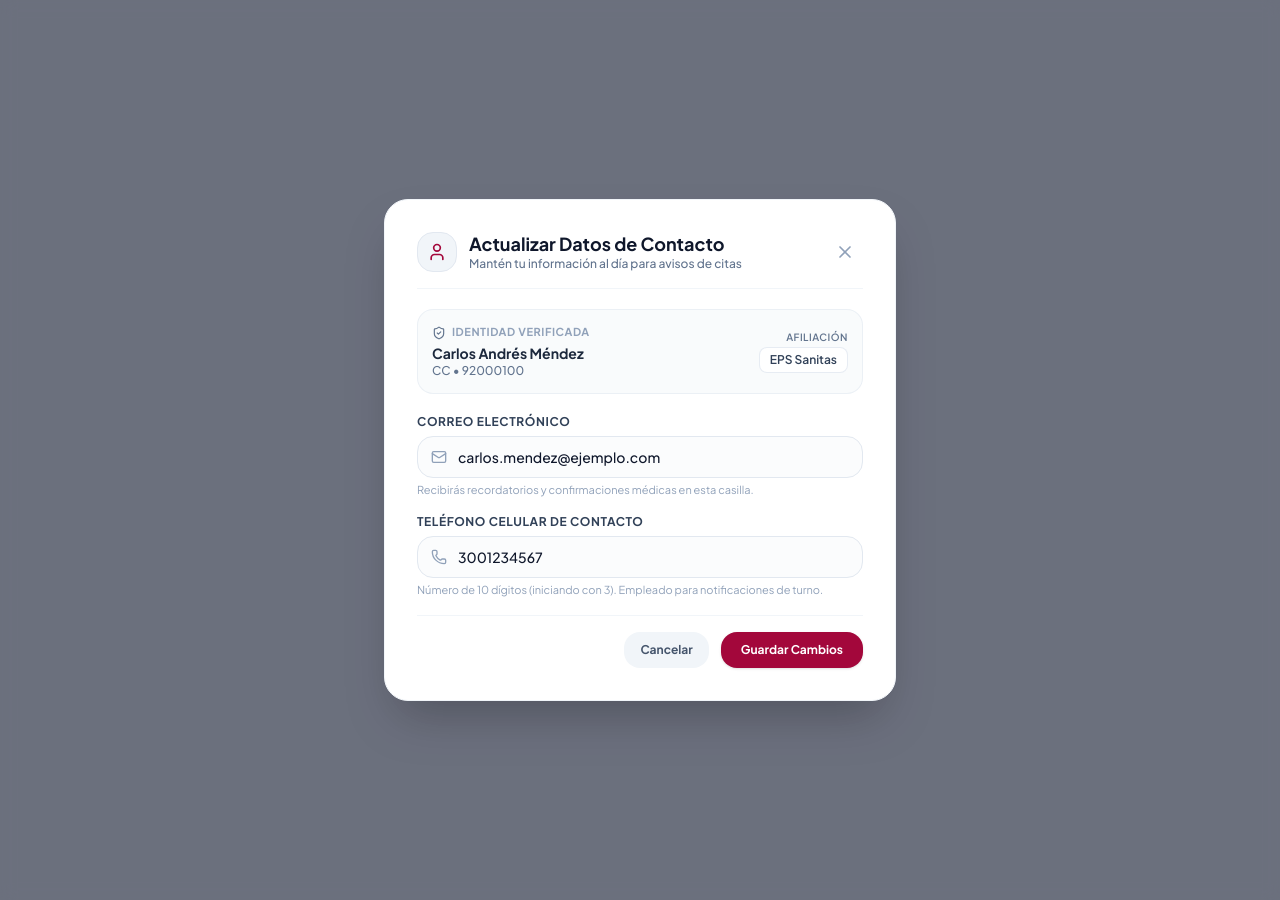
Test case: EditProfileModal - Edición de Datos de Contacto (RF-04) › muestra un mensaje de error si el correo ya pertenece a otro usuario registrado
Click the button "Guardar Cambios".
click(792, 650)  # box [721, 632, 863, 668]
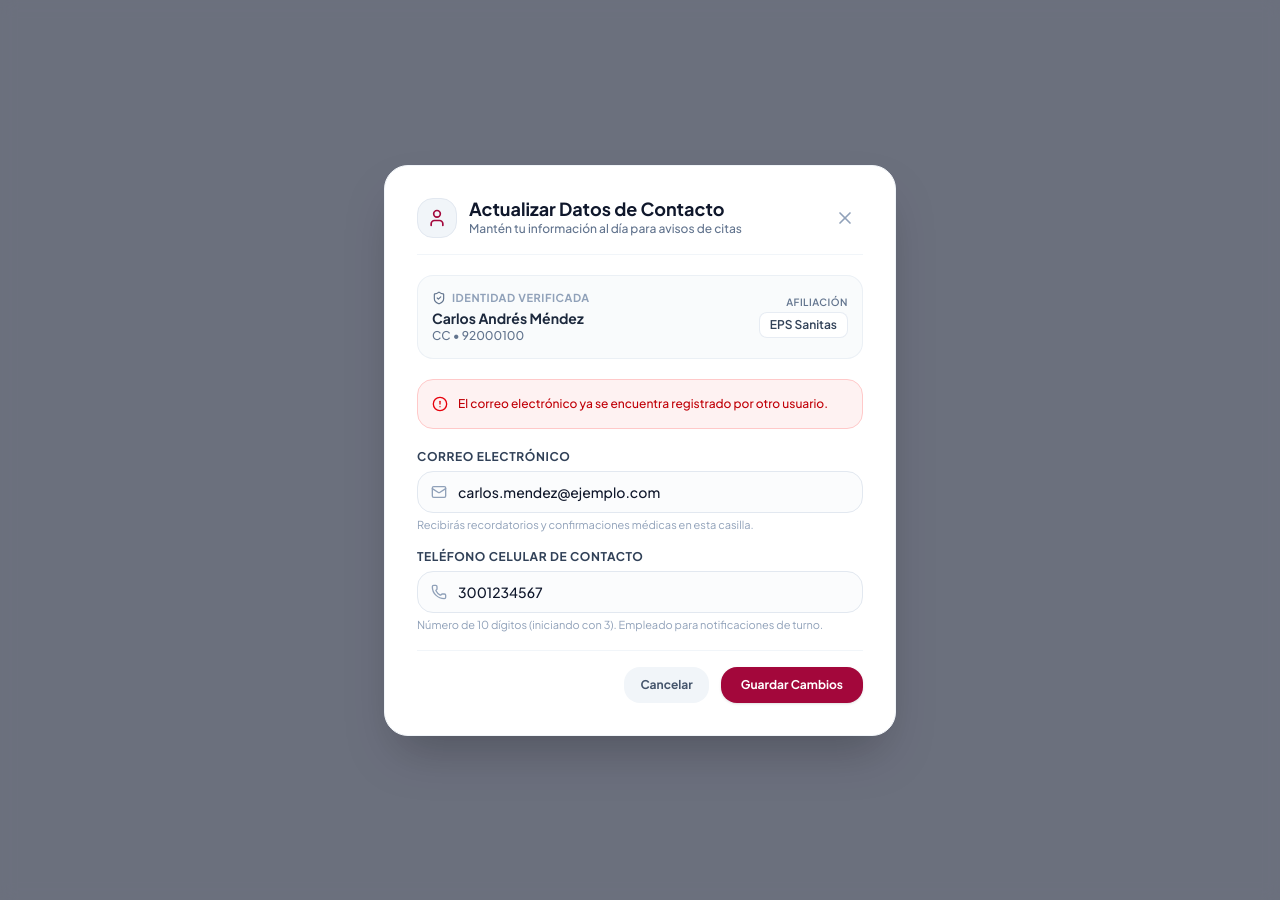
Now the text "El correo electrónico ya se encuentra registrado por otro usuario." is shown, box [458, 394, 828, 414]
